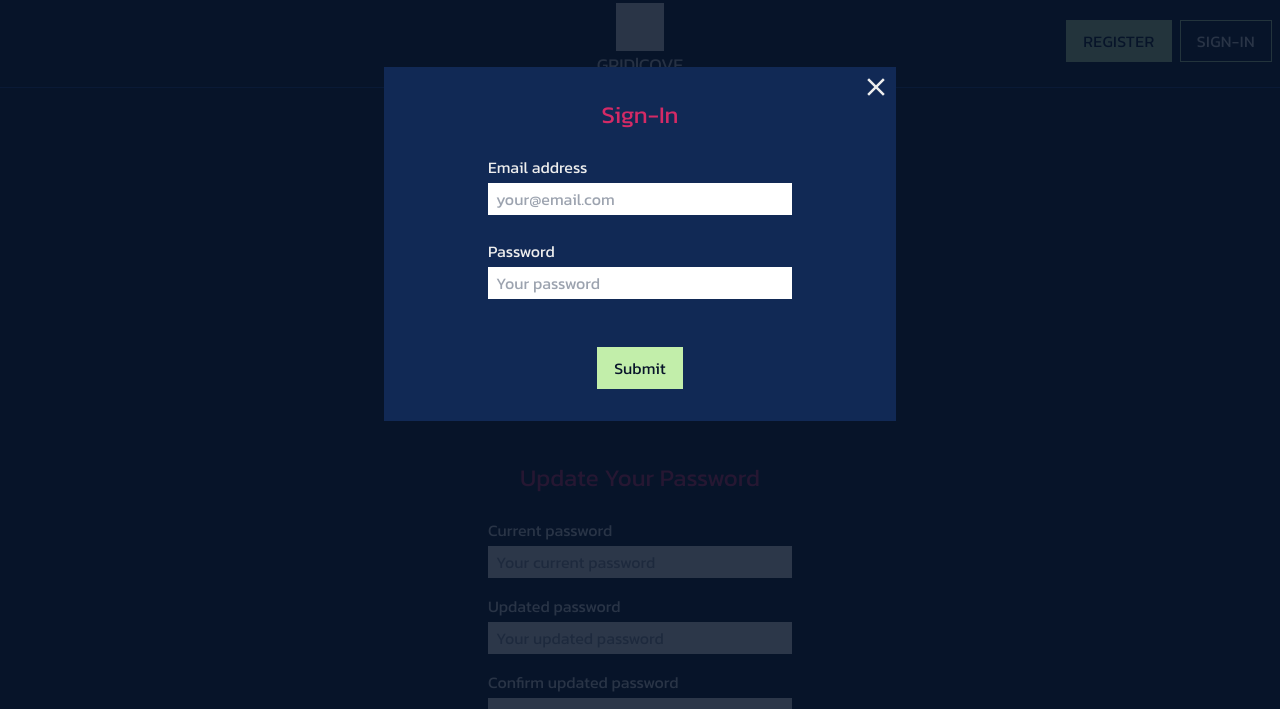
Require logged in tests: › On successful sign-in: › It should not show a sign-in form and should stay on the same page where sign in resolves
Click the button titled "submit".
click(640, 368)  # box [597,347,683,389]
(page scrolled)
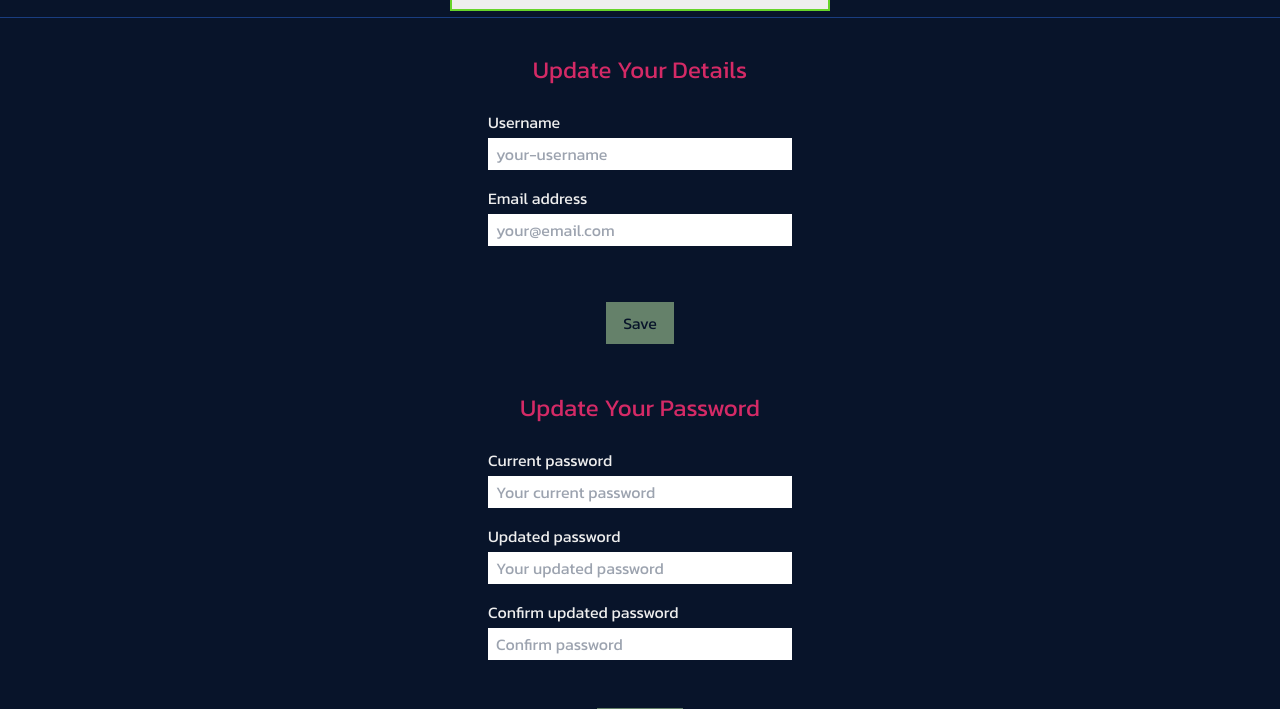
Check: the button "SIGN-IN" is gone
